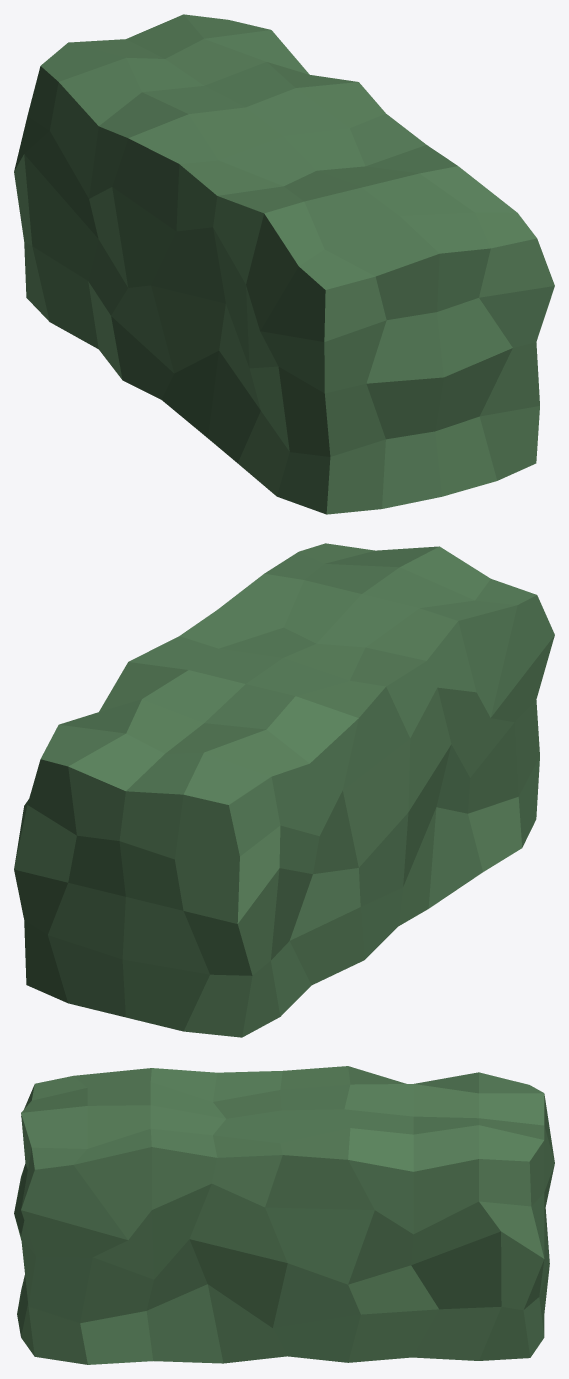
File: bush_two_end.fbx
3 views of the same model, one above another, from view 1: azimuth 30°, elevation 25°; view 2: azimuth 150°, elevation 25°; view 3: azimuth 270°, elevation 25° (orthographic). The views are drawn at different scales.
Parts seen in each view (by area): view 1: Cube; view 2: Cube; view 3: Cube.
Boxes of the visible parts, box(x1,y1,x2,y2) form: Cube: box(14, 14, 554, 514); Cube: box(14, 543, 554, 1037); Cube: box(14, 1066, 554, 1364).
Size of the model in its own units: 223 by 212 by 487.
